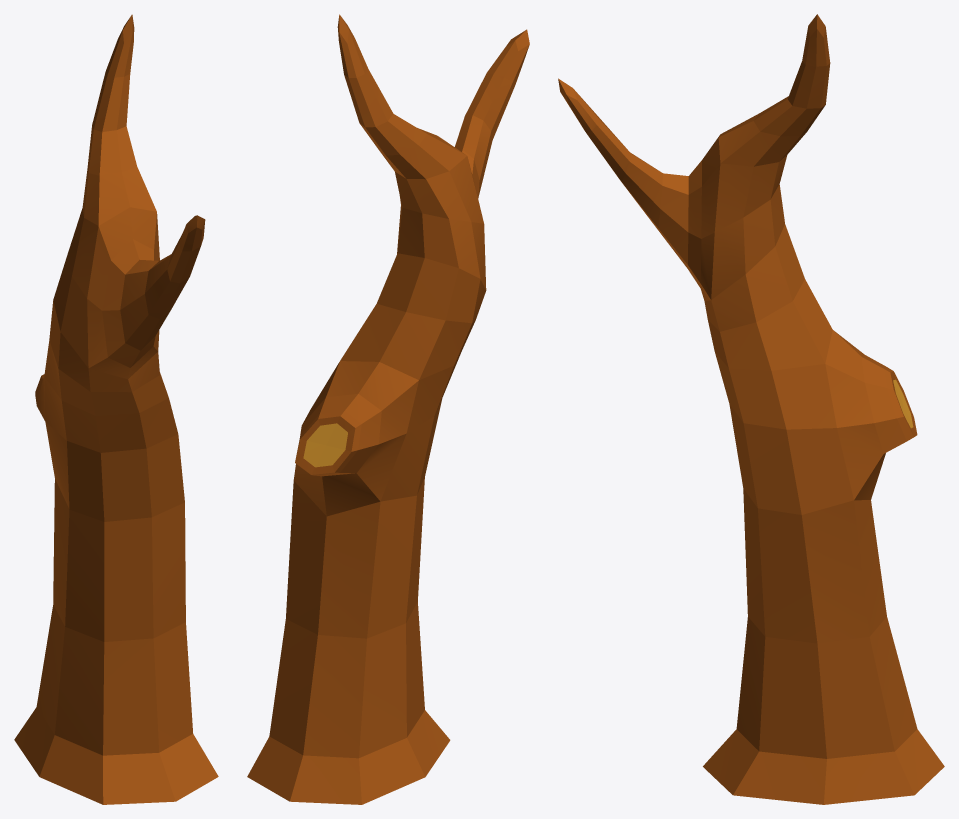
File: tree2.obj
The picture shows the model from 3 angles, left to right: view 1: azimuth 30°, elevation 25°; view 2: azimuth 150°, elevation 25°; view 3: azimuth 270°, elevation 25°; orthographic projection. The views are drawn at different scales.
Visible parts, largest first — view 1: Tree_1_Cube.015; view 2: Tree_1_Cube.015; view 3: Tree_1_Cube.015.
Boxes of the visible parts, bbox=[...] form: Tree_1_Cube.015: bbox=[14, 14, 218, 804]; Tree_1_Cube.015: bbox=[247, 14, 529, 804]; Tree_1_Cube.015: bbox=[558, 14, 944, 804].
Size of the model in its own units: 2.36 by 9.79 by 4.52.
